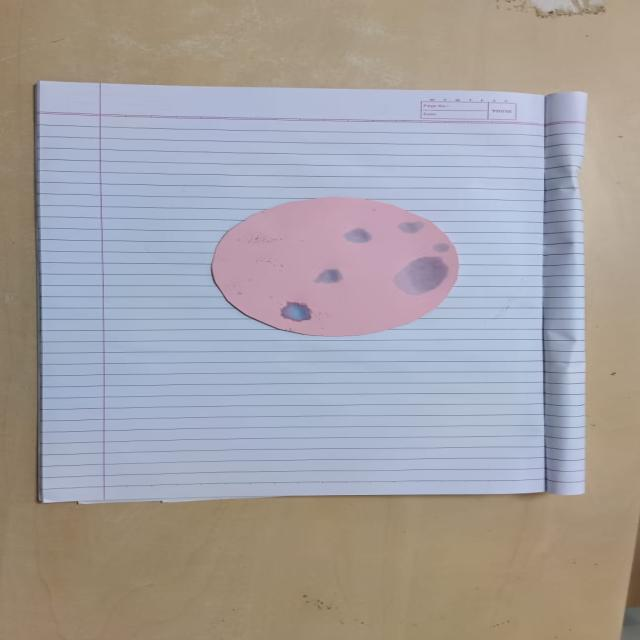BlueColor: (394, 256, 449, 296), (280, 302, 311, 322), (315, 269, 343, 284), (345, 228, 371, 243), (399, 219, 425, 234), (433, 242, 453, 253)
